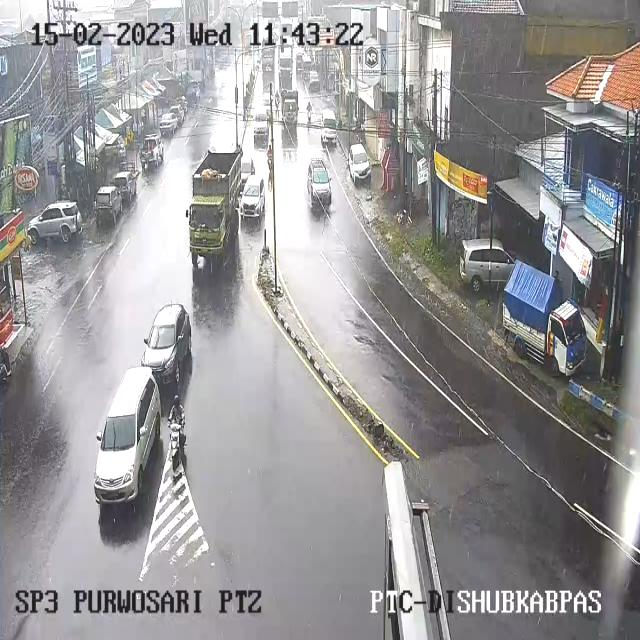Car: (89, 366, 164, 504), (140, 304, 192, 386), (457, 238, 512, 295), (27, 202, 82, 244), (305, 158, 332, 208), (93, 186, 124, 226), (238, 176, 266, 218), (347, 144, 371, 182), (112, 170, 138, 204), (140, 134, 164, 168), (321, 110, 338, 142), (239, 158, 256, 190), (159, 112, 179, 134), (253, 119, 269, 146), (169, 105, 186, 126), (306, 71, 320, 91), (301, 54, 312, 72), (261, 92, 272, 107), (296, 51, 304, 65)
Motorbike: (170, 400, 189, 470), (306, 102, 312, 120)
Truck: (502, 264, 587, 378), (190, 154, 242, 272), (280, 89, 299, 127), (279, 47, 293, 74), (262, 46, 276, 70)
